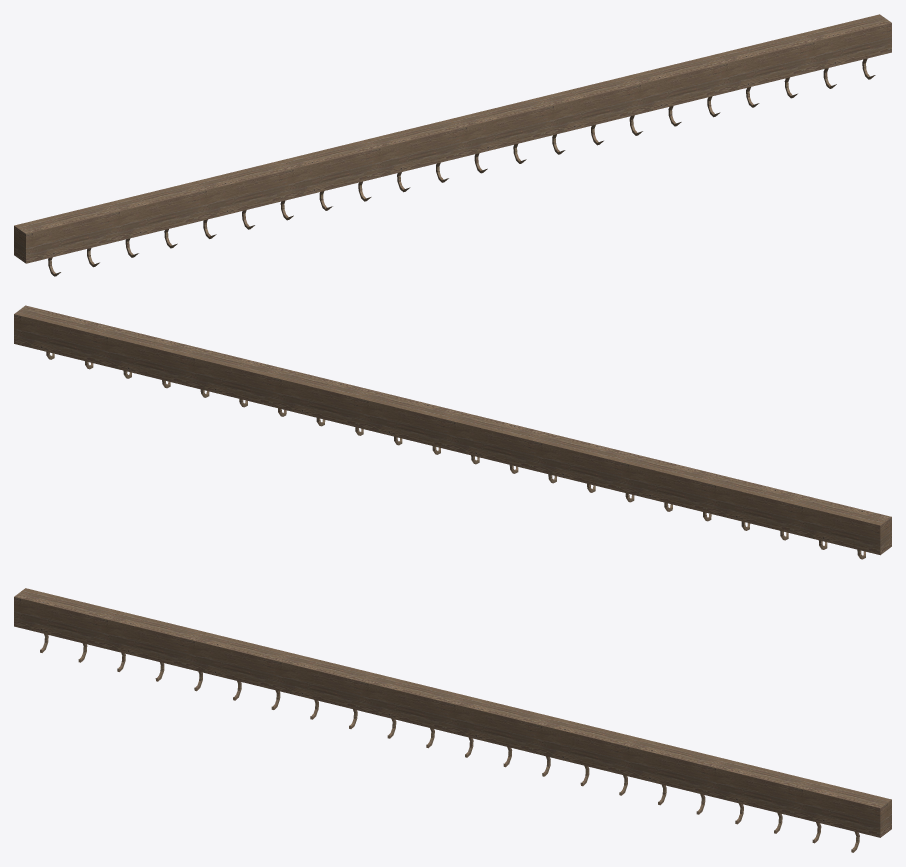
File: OU_AR_Tavern_Shelf_06_D.fbx
3 views of the same model, one above another, from view 1: azimuth 30°, elevation 25°; view 2: azimuth 150°, elevation 25°; view 3: azimuth 330°, elevation 25° (orthographic).
Parts seen in each view (by area): view 1: Tavern_Shelf; view 2: Tavern_Shelf; view 3: Tavern_Shelf.
Part boxes in pixels (x1,y1,x2,y2): Tavern_Shelf: (14,14,891,276); Tavern_Shelf: (14,305,891,559); Tavern_Shelf: (14,588,891,852).
Size of the model in its own units: 499 by 26.61 by 17.35.
1 material, 1 textured.
